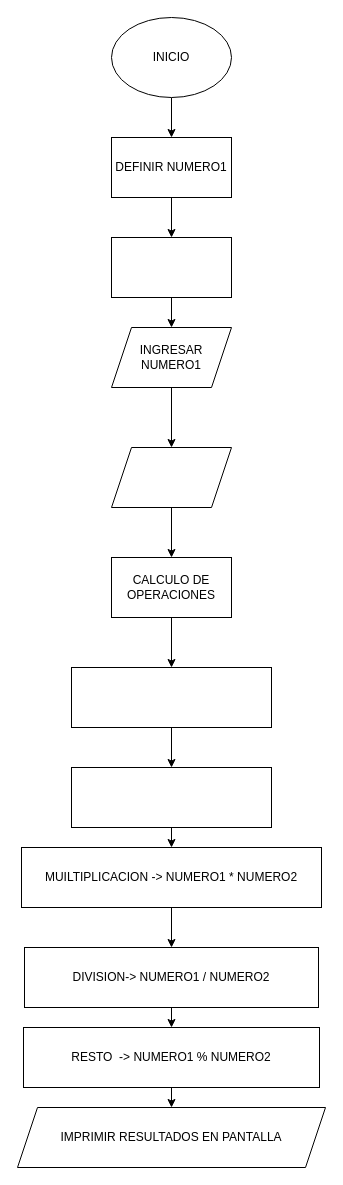
The diagram is 343 pixels wide and 1185 high, and some of its shapes have lost their labels. The shapes that lost their labels are listed below. From the top down, each one's centre as x and y in pixels, then its label:
At (171,267): "DEFINIR NUMERO2".
At (171,477): "INGRESAR NUMERO2".
At (171,697): "SUMA -> NUMERO1 + NUMERO2".
At (171,797): "RESTA -> NUMERO1 - NUMERO2".
